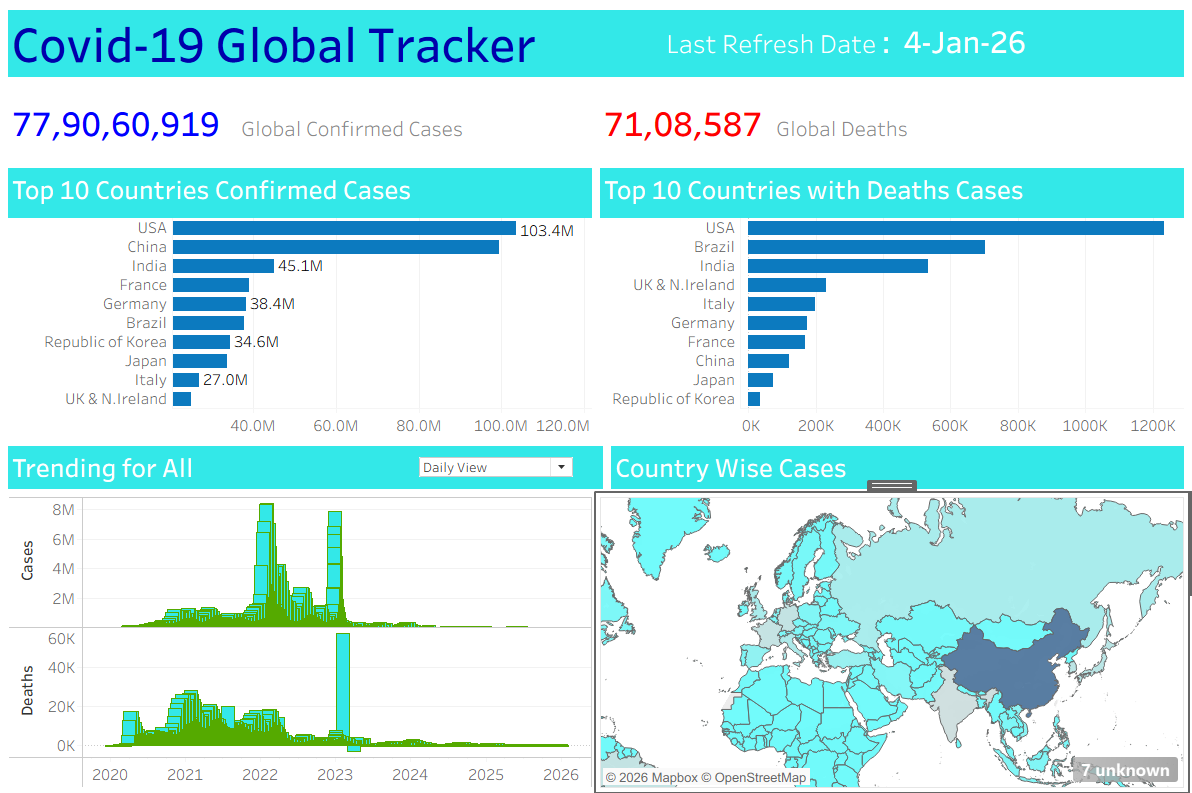

The dashboard page shown, as its layout file describes it:
{"tool":"tableau","page":{"name":"Dashboard 1","canvas":[1000,1000],"units":"permille","ordinal":0},"visuals":[{"type":"text","box":[6.7,10,986.7,93.5]},{"type":"worksheet","title":"Last Refresh","mark":"Automatic","box":[555,28.7,398.3,49.9]},{"type":"worksheet","title":"Global Confirmed Cases","mark":"Automatic","box":[6.7,103.5,493.3,103.5]},{"type":"worksheet","title":"Global Deaths","mark":"Automatic","box":[500,103.5,493.3,103.5]},{"type":"worksheet","title":"Top 10 Countries Confirmed Cases","mark":"Automatic","rows":["Country"],"cols":["New_cases"],"box":[6.7,207,493.3,346.6]},{"type":"worksheet","title":"Top 10 Countries with Deaths Cases","mark":"Automatic","rows":["Country"],"cols":["New_deaths"],"box":[500,207,493.3,346.6]},{"type":"worksheet","title":"Sheet 9","mark":"Automatic","box":[6.7,553.6,502.5,63.6]},{"type":"worksheet","title":"Sheet 10","mark":"Automatic","box":[509.2,553.6,484.2,63.6]},{"type":"parameter","param":"[Parameters].[Parameter 1]","box":[350,568.6,133.3,34.9]},{"type":"worksheet","title":"Trending Cumulative","mark":"Bar","rows":["New_cases","New_deaths"],"cols":["Date_reported"],"box":[6.7,617.2,0.8,372.8]},{"type":"worksheet","title":"Trending Daily","mark":"Bar","rows":["New_cases","New_deaths"],"cols":["Date_reported"],"box":[7.5,617.2,492.5,372.8]},{"type":"worksheet","title":"Country Wise cases","mark":"Automatic","box":[500,617.2,493.3,372.8]}]}

Visuals, with their boxes on the dashboard's canvas, which has no fixed pixel size, in thousandths of its width and height (x1, y1, x2, y2). These are canvas units, not pixel positions in the 1192x793 screenshot, which may show the page scaled, cropped or inside an application window:
text: [left=7, top=10, right=993, bottom=104]
"Last Refresh" worksheet: [left=555, top=29, right=953, bottom=79]
"Global Confirmed Cases" worksheet: [left=7, top=104, right=500, bottom=207]
"Global Deaths" worksheet: [left=500, top=104, right=993, bottom=207]
"Top 10 Countries Confirmed Cases" worksheet: [left=7, top=207, right=500, bottom=554]
"Top 10 Countries with Deaths Cases" worksheet: [left=500, top=207, right=993, bottom=554]
"Sheet 9" worksheet: [left=7, top=554, right=509, bottom=617]
"Sheet 10" worksheet: [left=509, top=554, right=993, bottom=617]
parameter: [left=350, top=569, right=483, bottom=604]
"Trending Cumulative" worksheet (Bar marks): [left=7, top=617, right=8, bottom=990]
"Trending Daily" worksheet (Bar marks): [left=8, top=617, right=500, bottom=990]
"Country Wise cases" worksheet: [left=500, top=617, right=993, bottom=990]
